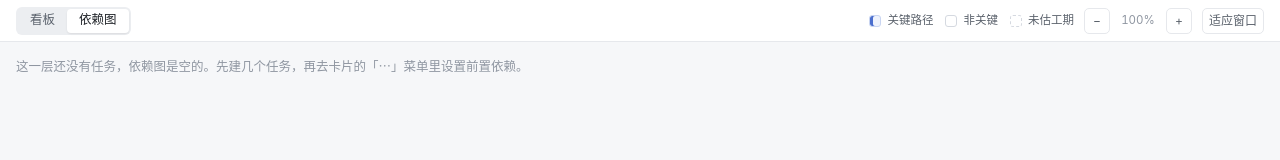
Test: 依赖图视图 › 图是空的（舞台还没画出来）时缩放照样生效：量不到尺寸就用 0 当锚点
The width and height of the screenshot is (1280, 160).
Click the button named "放大": (1179, 20) [1166,8,1192,34]
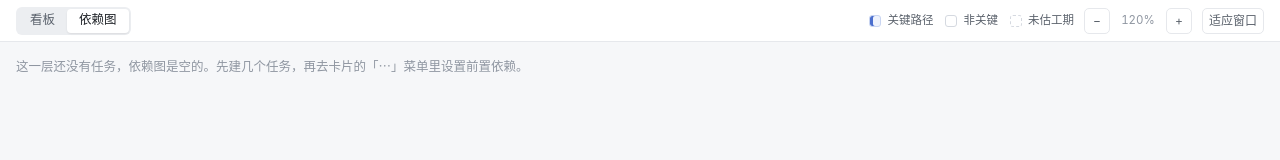
Expected: the text "120%" is shown, [1120,12,1156,29]
Click the button named "缩小": (1097, 20) [1084,8,1110,34]
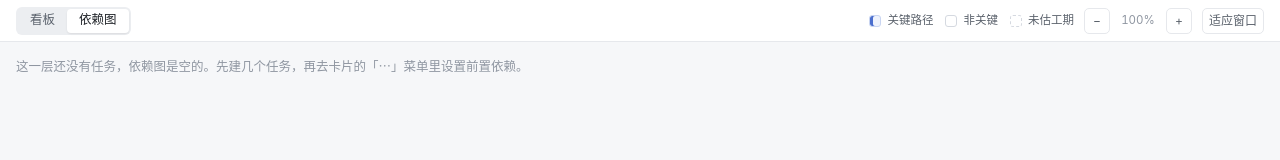
Expected: the text "100%" is shown, [1120,12,1156,29]
